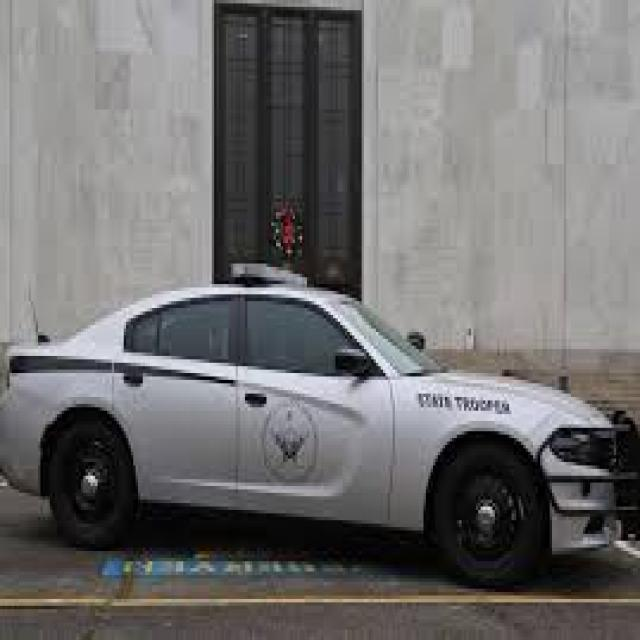cop: (0, 261, 640, 590)
